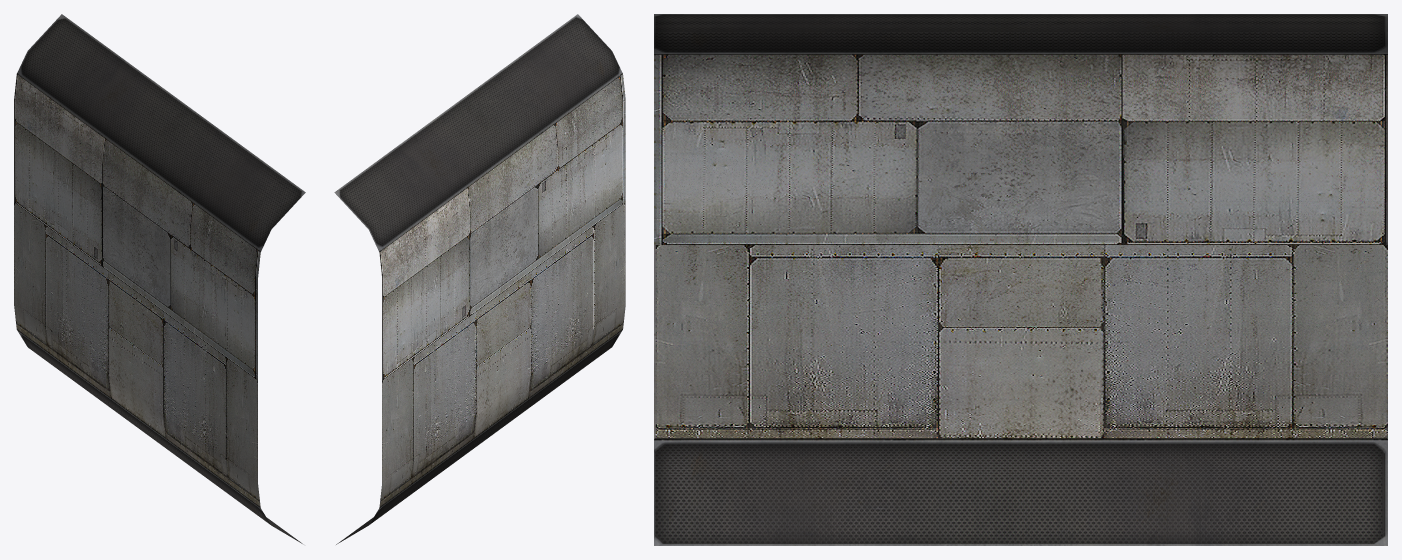
File: Wall_B_Mid4mts_00.fbx
3 renders of one model, left to right at view 1: azimuth 30°, elevation 25°; view 2: azimuth 150°, elevation 25°; view 3: azimuth 270°, elevation 25°, orthographic. The views are drawn at different scales.
Parts seen in each view (by area): view 1: Wall_B_Mid4mts_00; view 2: Wall_B_Mid4mts_00; view 3: Wall_B_Mid4mts_00.
Part boxes in pixels (x1=…): Wall_B_Mid4mts_00: x1=14, y1=14, x2=305, y2=544; Wall_B_Mid4mts_00: x1=334, y1=14, x2=625, y2=544; Wall_B_Mid4mts_00: x1=654, y1=14, x2=1387, y2=545.
Bounding box in the file's own units: 56.73 × 400 × 500.
1 material, 1 textured.
